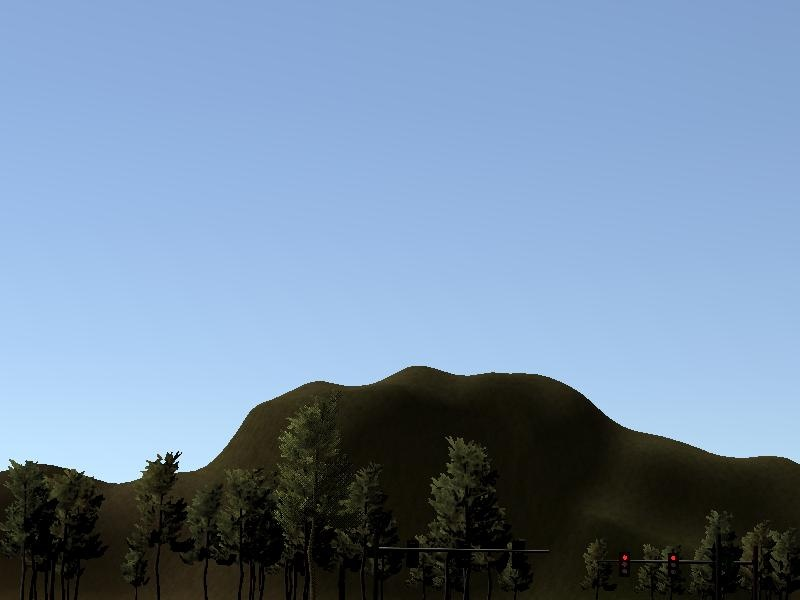RED: (660, 550, 684, 592), (612, 547, 635, 588)
